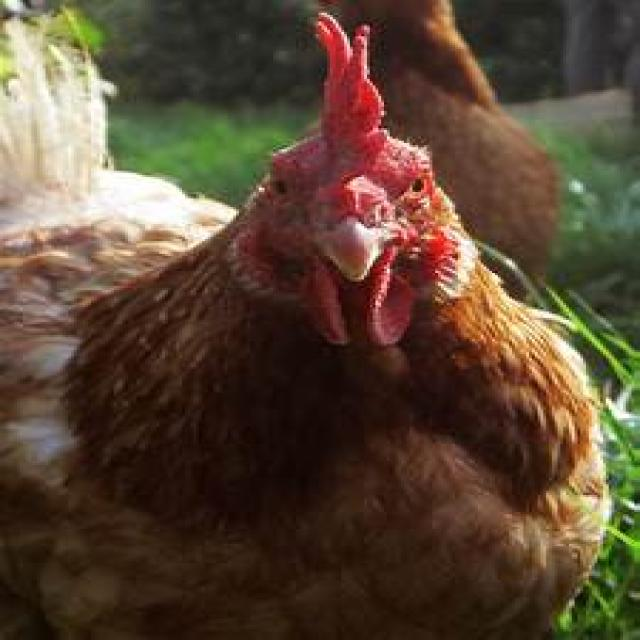hen: (3, 18, 607, 639)
